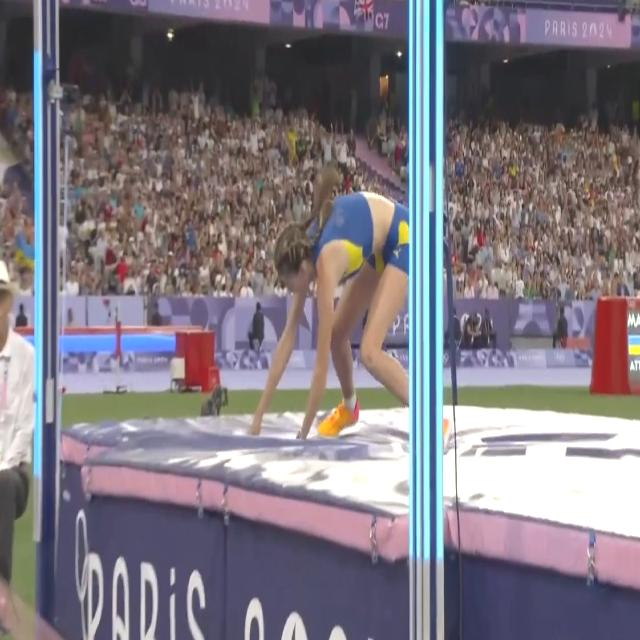land: (244, 160, 452, 450)
